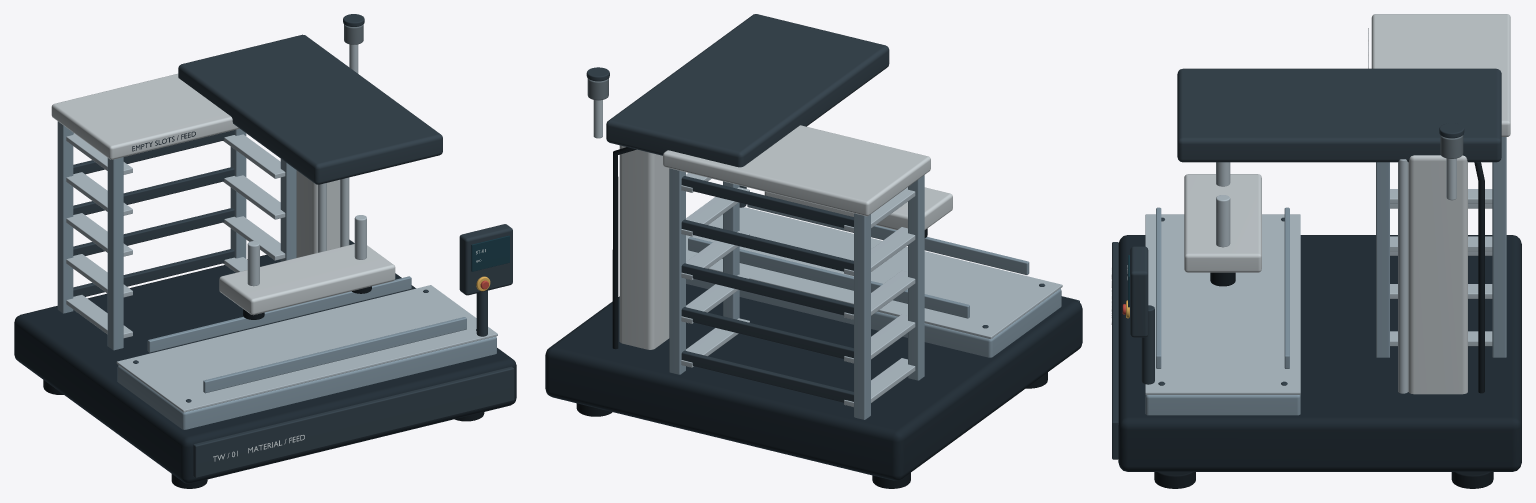
File: input-feeder.glb
The picture shows the model from 3 angles, left to right: view 1: azimuth 30°, elevation 25°; view 2: azimuth 150°, elevation 25°; view 3: azimuth 270°, elevation 25°; orthographic projection. The views are drawn at different scales.
Parts seen in each view (by area): view 1: input_feeder_Enamel_Graphite, input_feeder_Machined_Steel, input_feeder_Cast_Base, input_feeder_Brushed_Aluminium, input_feeder_Enamel_Pearl, FeedLift_Enamel_Pearl, FeedLift_Machined_Steel, input_feeder_Display_Glass, input_feeder_Rubber_Seal; view 2: input_feeder_Cast_Base, input_feeder_Enamel_Graphite, input_feeder_Machined_Steel, input_feeder_Enamel_Pearl, input_feeder_Brushed_Aluminium, input_feeder_Rubber_Seal, FeedLift_Enamel_Pearl; view 3: input_feeder_Cast_Base, input_feeder_Enamel_Graphite, input_feeder_Machined_Steel, input_feeder_Enamel_Pearl, input_feeder_Brushed_Aluminium, FeedLift_Enamel_Pearl, input_feeder_Rubber_Seal, FeedLift_Machined_Steel, input_feeder_Status_Lens.
Part boxes in pixels (left/top/right/bottom): input_feeder_Enamel_Graphite: left=73, top=14, right=514, bottom=477; input_feeder_Machined_Steel: left=66, top=44, right=497, bottom=412; input_feeder_Cast_Base: left=14, top=239, right=516, bottom=483; input_feeder_Brushed_Aluminium: left=57, top=121, right=496, bottom=429; input_feeder_Enamel_Pearl: left=51, top=73, right=339, bottom=257; FeedLift_Enamel_Pearl: left=219, top=244, right=395, bottom=315; FeedLift_Machined_Steel: left=247, top=215, right=366, bottom=286; input_feeder_Display_Glass: left=471, top=235, right=509, bottom=271; input_feeder_Rubber_Seal: left=43, top=380, right=484, bottom=488; input_feeder_Cast_Base: left=545, top=284, right=1082, bottom=480; input_feeder_Enamel_Graphite: left=586, top=14, right=1079, bottom=402; input_feeder_Machined_Steel: left=593, top=100, right=1062, bottom=406; input_feeder_Enamel_Pearl: left=619, top=125, right=930, bottom=349; input_feeder_Brushed_Aluminium: left=669, top=168, right=1061, bottom=419; input_feeder_Rubber_Seal: left=576, top=147, right=1047, bottom=488; FeedLift_Enamel_Pearl: left=764, top=187, right=952, bottom=230; input_feeder_Cast_Base: left=1118, top=235, right=1521, bottom=471; input_feeder_Enamel_Graphite: left=1112, top=68, right=1501, bottom=459; input_feeder_Machined_Steel: left=1145, top=158, right=1492, bottom=394; input_feeder_Enamel_Pearl: left=1371, top=14, right=1510, bottom=394; input_feeder_Brushed_Aluminium: left=1145, top=137, right=1506, bottom=415; FeedLift_Enamel_Pearl: left=1184, top=174, right=1261, bottom=272; input_feeder_Rubber_Seal: left=1154, top=162, right=1493, bottom=488; FeedLift_Machined_Steel: left=1216, top=162, right=1230, bottom=247; input_feeder_Status_Lens: left=1440, top=135, right=1463, bottom=158.
Bounding box in the file's own units: 3 × 2.63 × 2.75.
